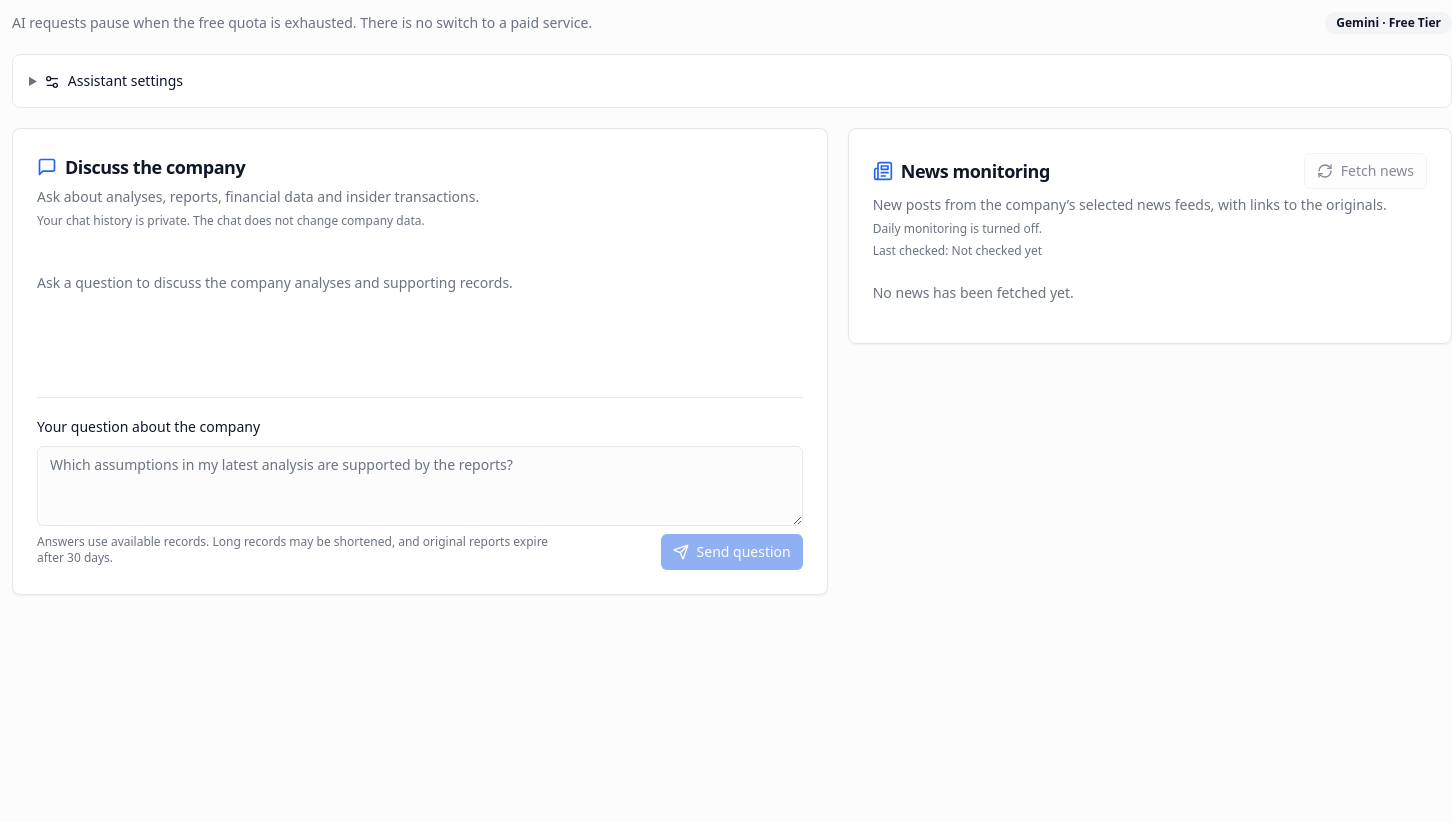
Test: CompanyAssistant › does not retry an exhausted AI quota and keeps the question for a deliberate retry
Replace the text in the text box labelled "Your question about the company" with "What changed?" at point(420, 486), box 37,446 -> 803,526
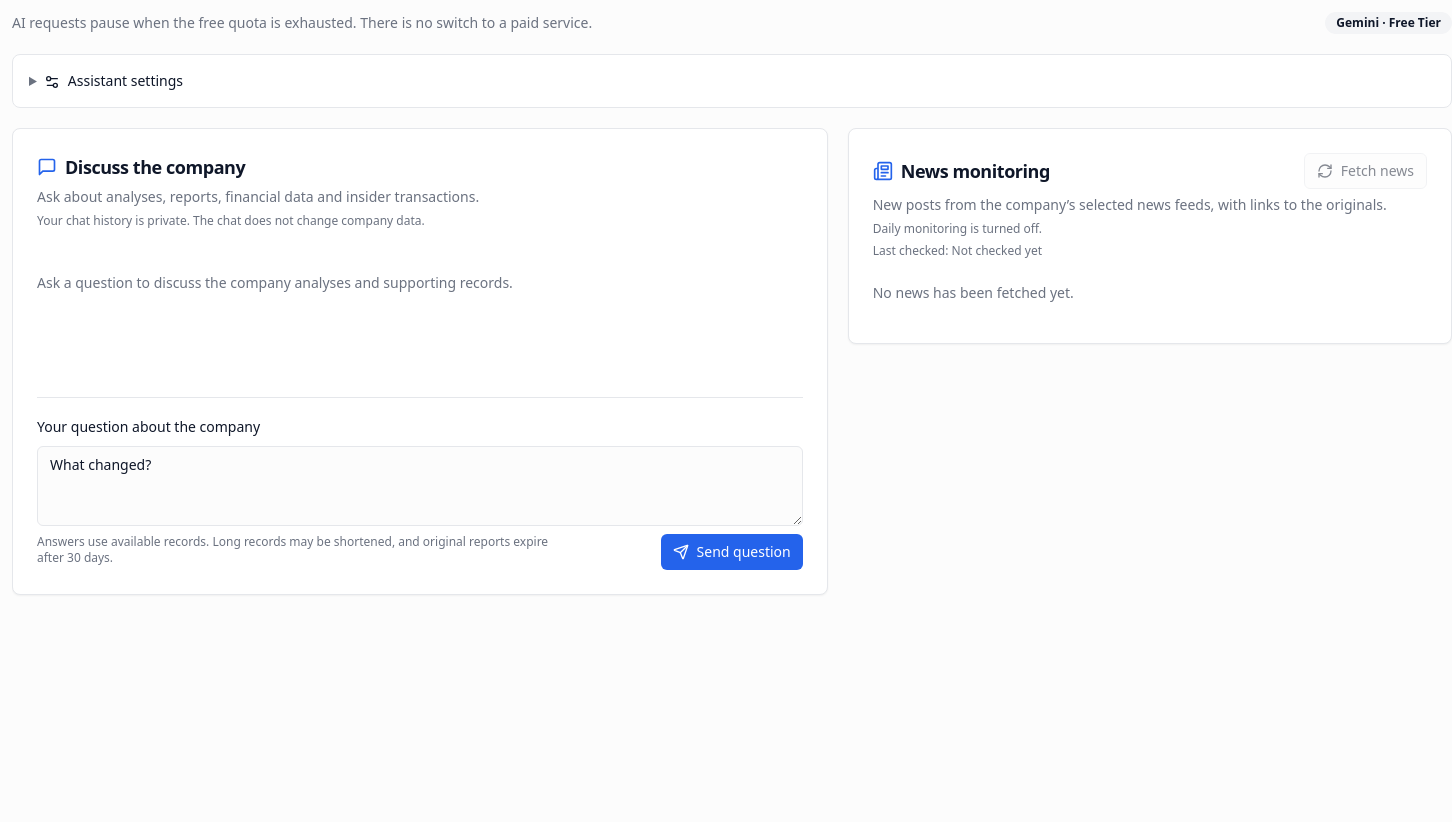
Click the button "Send question" at point(732, 552), box 661,534 -> 803,570
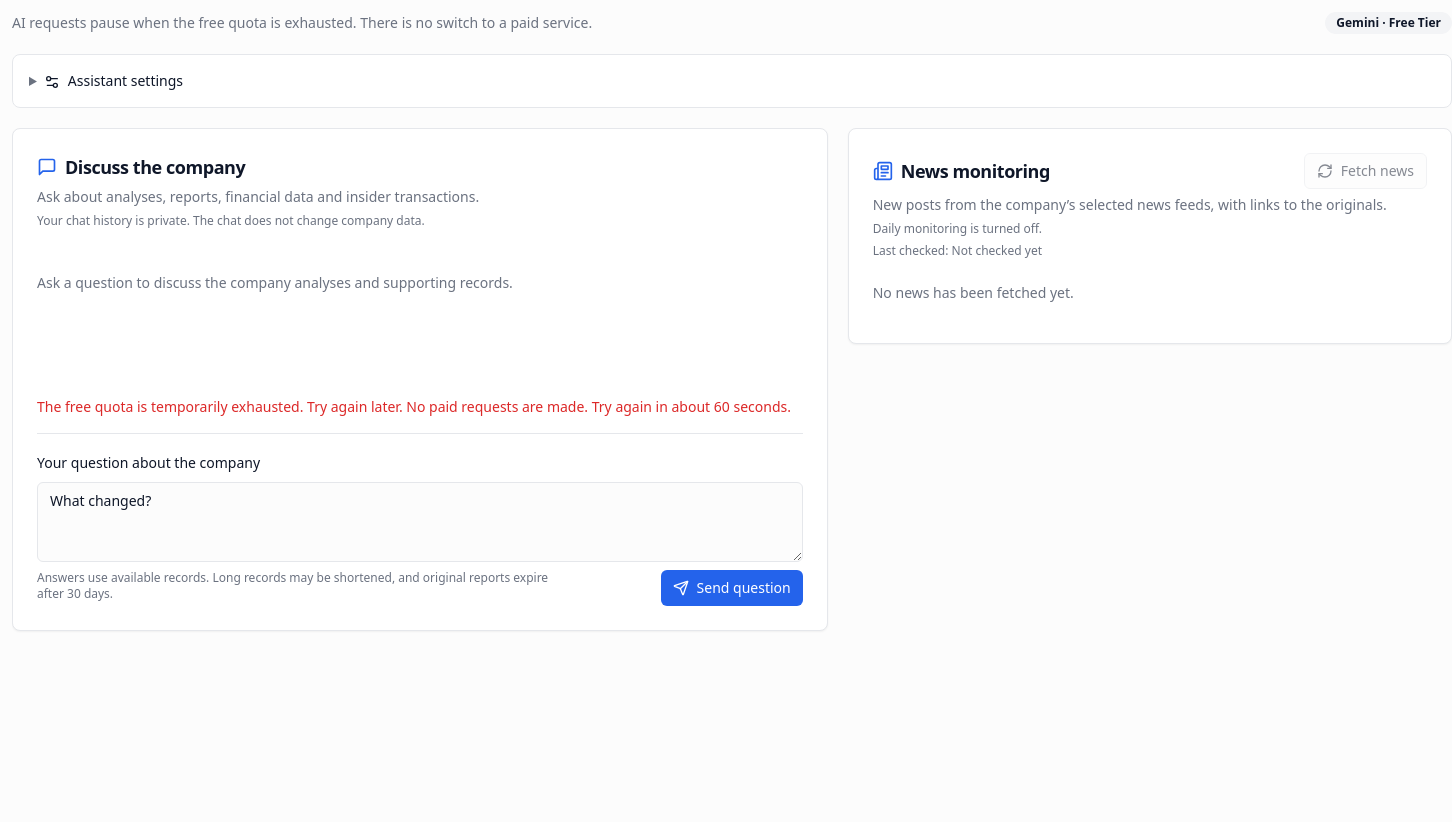
expect the message shows "The free quota is temporarily exhausted": met, box 37,397 -> 791,416
